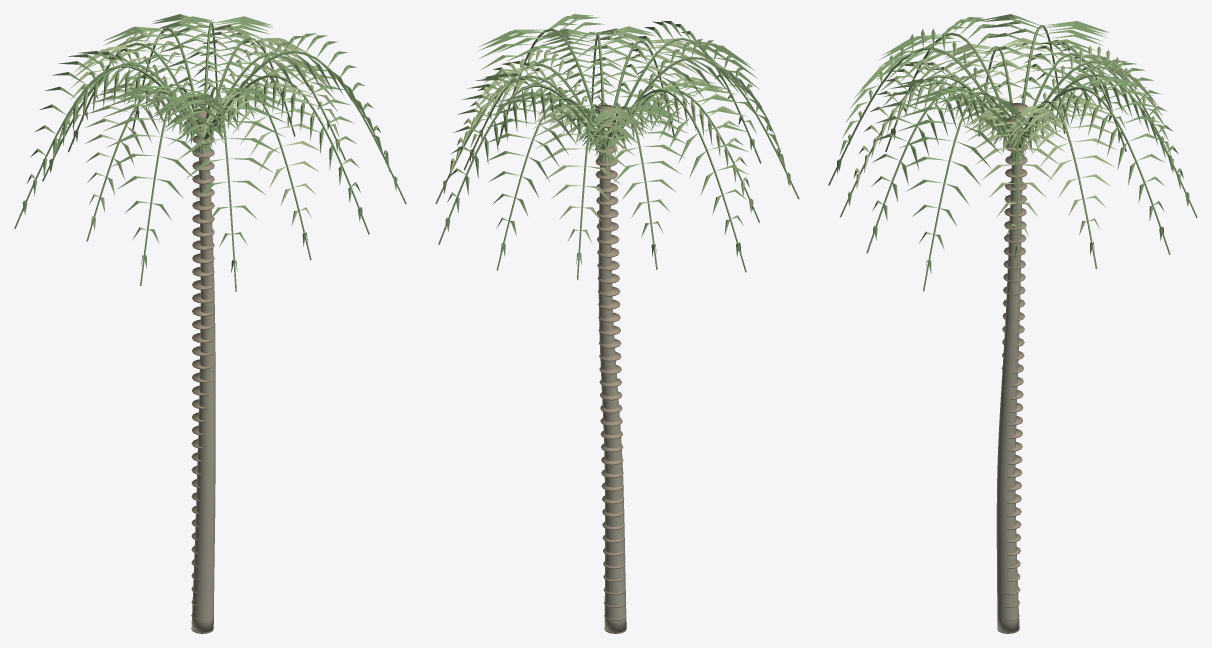
Rendered from grove-grove-tree-1.glb.
3 renders of one model, left to right at view 1: azimuth 30°, elevation 25°; view 2: azimuth 150°, elevation 25°; view 3: azimuth 270°, elevation 25°, orthographic.
Parts seen in each view (by area): view 1: grove-grove-tree-1; view 2: grove-grove-tree-1; view 3: grove-grove-tree-1.
Boxes of the visible parts, box(x1,y1,x2,y2) form: grove-grove-tree-1: box(14, 14, 406, 633); grove-grove-tree-1: box(435, 14, 799, 633); grove-grove-tree-1: box(828, 14, 1197, 633).
Bounding box in the file's own units: 5.65 × 9.64 × 5.63.
